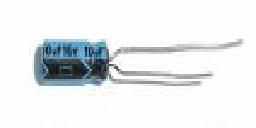Electrolytic Capacitor: (38, 37, 249, 89)
